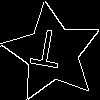T: (27, 27, 65, 78)
